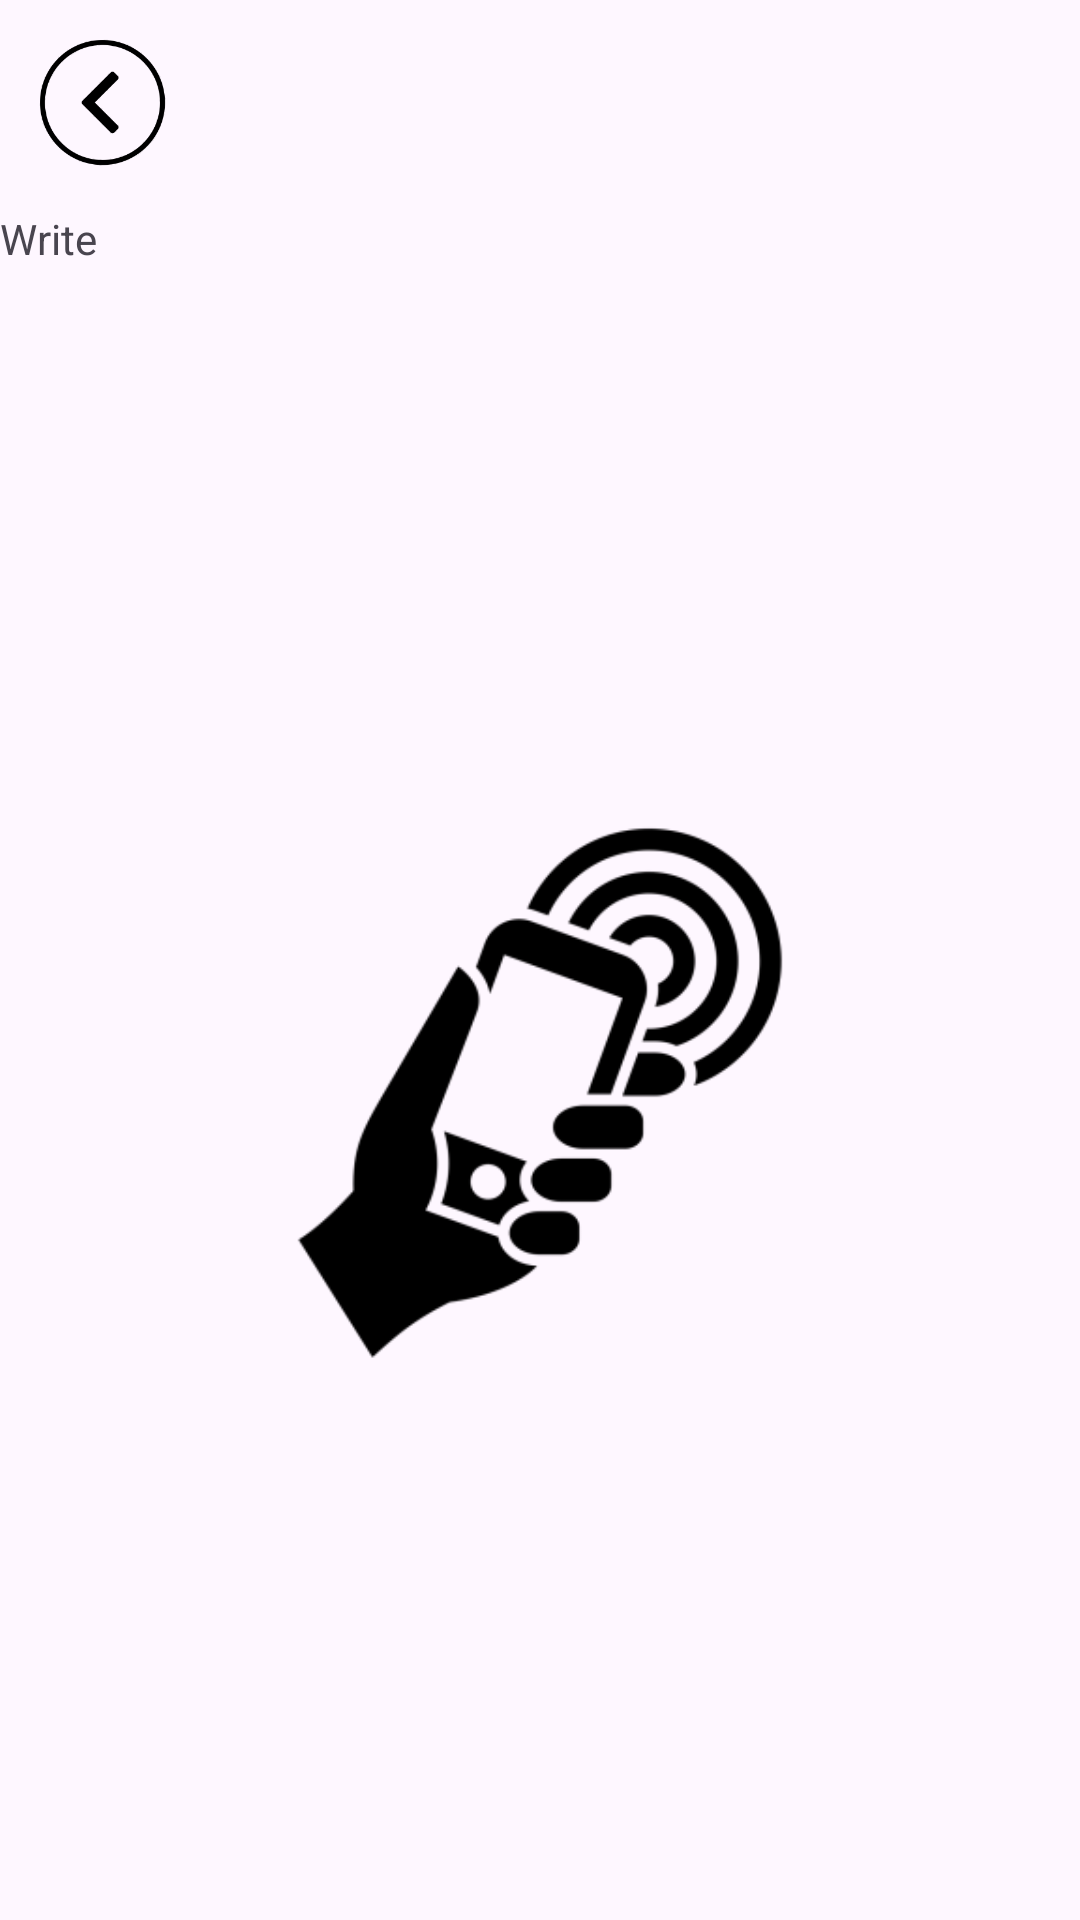

Named icons in this screenshot (1080*1920) and their bounding boxes, region(x1, y1, x2, y2):
back arrow: region(40, 40, 166, 166)
